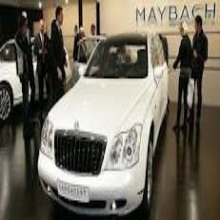no damage: (37, 32, 169, 220)
